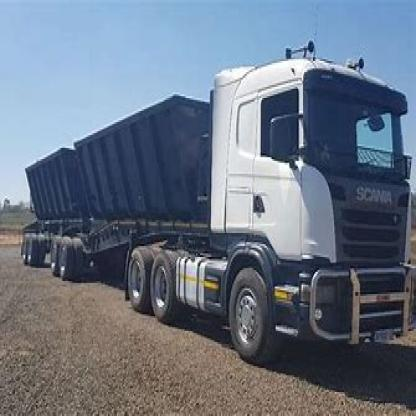dump_truck: (10, 32, 415, 366)
